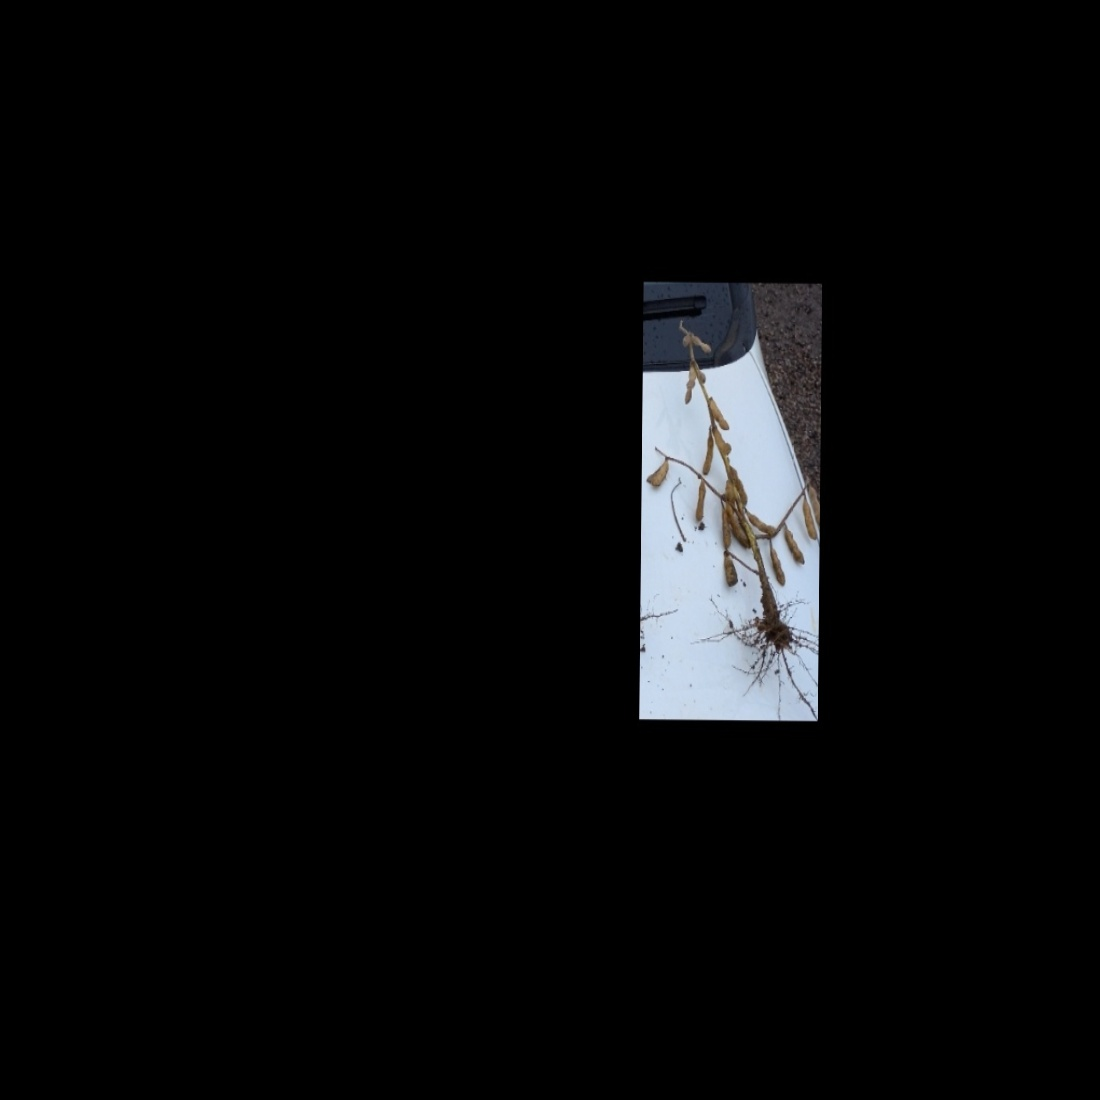pod: (796, 495, 817, 545), (782, 526, 806, 568), (767, 541, 788, 588), (708, 397, 731, 432), (746, 511, 776, 534), (700, 434, 715, 477), (682, 364, 696, 406), (719, 504, 732, 549), (712, 427, 733, 454), (693, 484, 707, 522), (691, 332, 713, 354)
soy: (642, 314, 822, 679)
